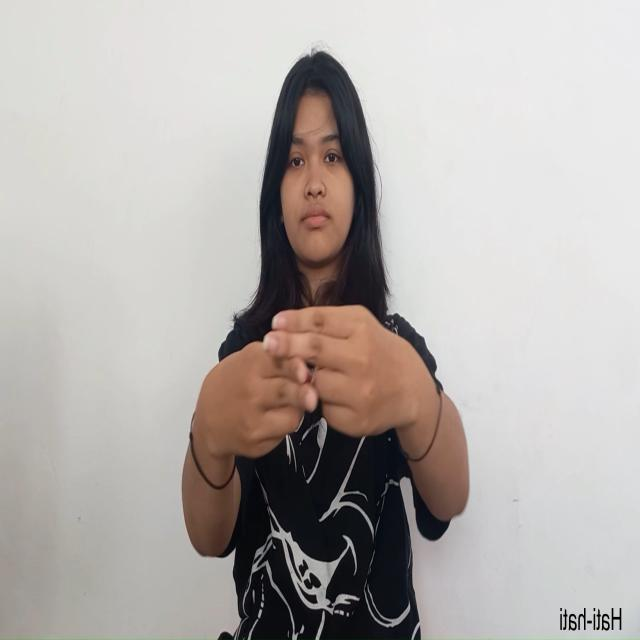Hati-hati -BISINDO-: (196, 301, 422, 464)
